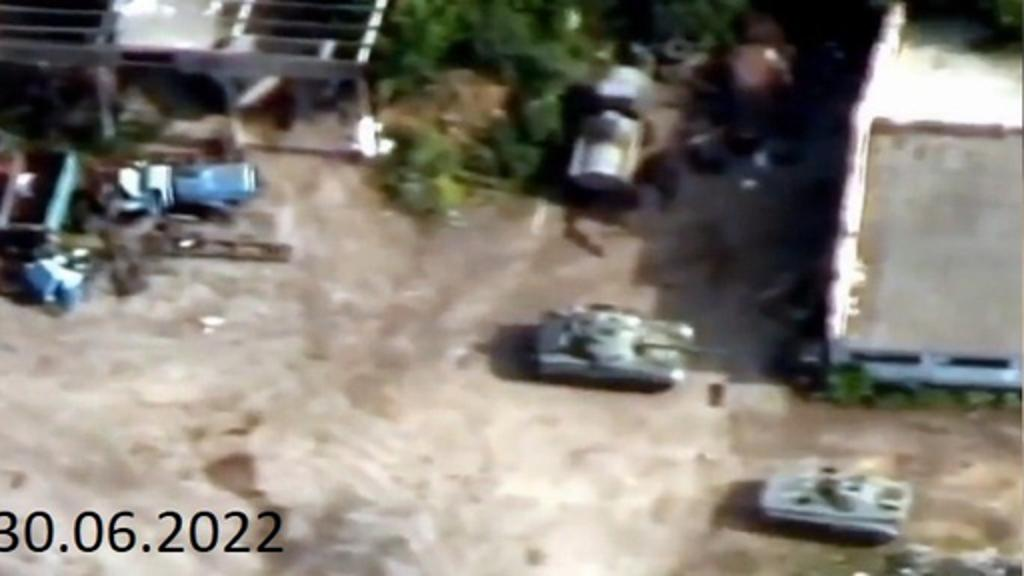APC-IFV: (754, 462, 914, 546)
TANK: (524, 298, 714, 394)
TRUCK: (554, 54, 662, 204), (100, 156, 266, 230)
